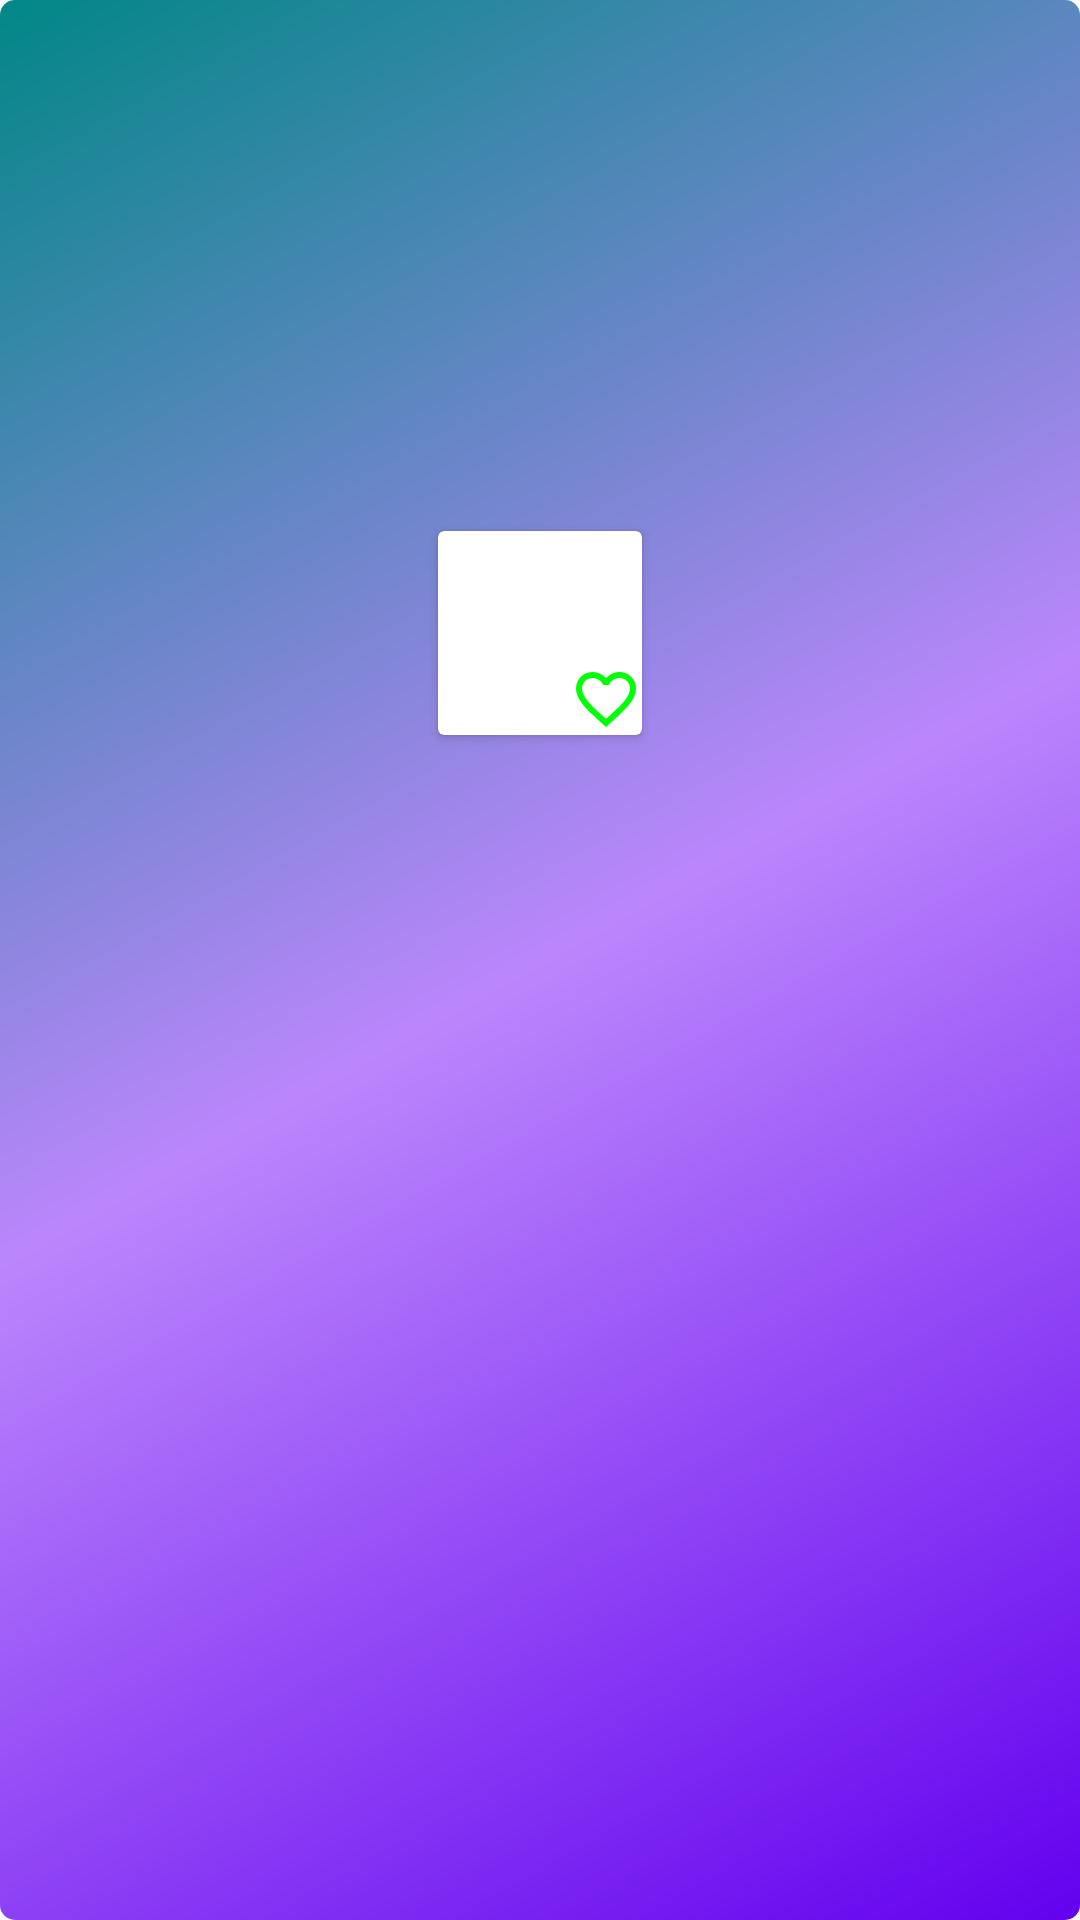

Screen size 1080px x 1920px. Icon name, then its center in pixels as (x=x, y=y):
un favorite: (x=606, y=699)
